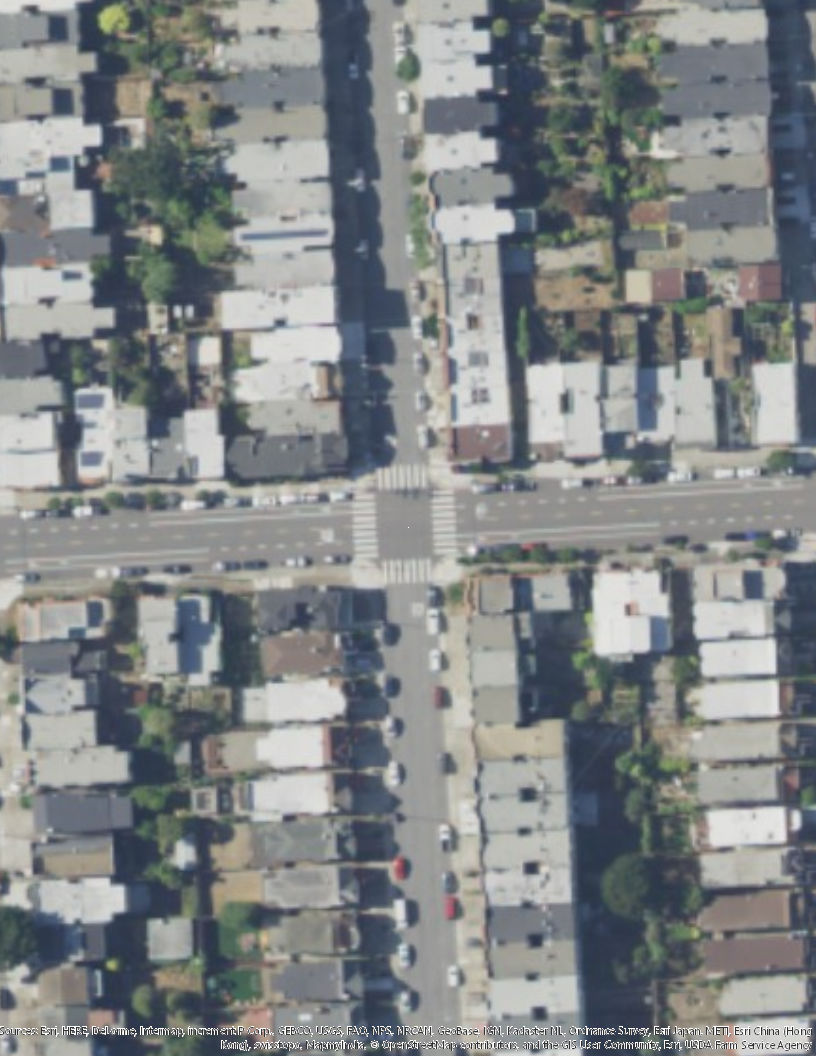zebracross: (430, 489, 456, 555), (353, 494, 379, 559), (378, 465, 431, 491), (384, 557, 430, 582)
